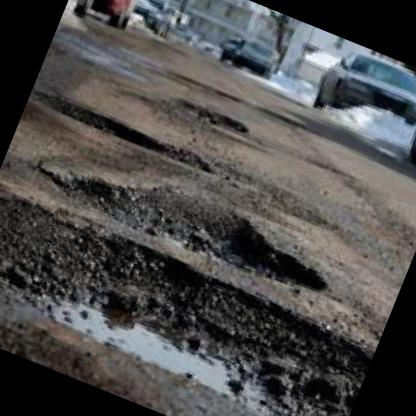pothole: (0, 183, 378, 416), (24, 132, 341, 306), (28, 81, 224, 178), (163, 89, 252, 140)
